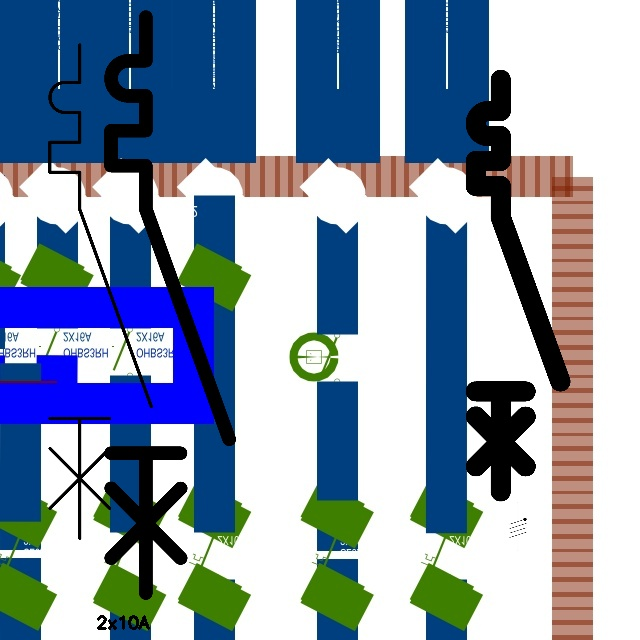interruptor_termomagnetico: (96, 2, 244, 608), (37, 32, 164, 551), (465, 69, 571, 502)
